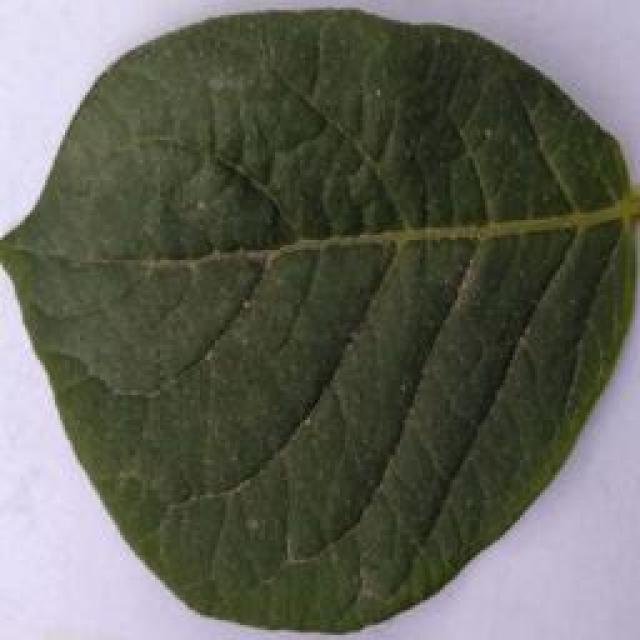Potato_Healthy: (4, 11, 626, 632)
